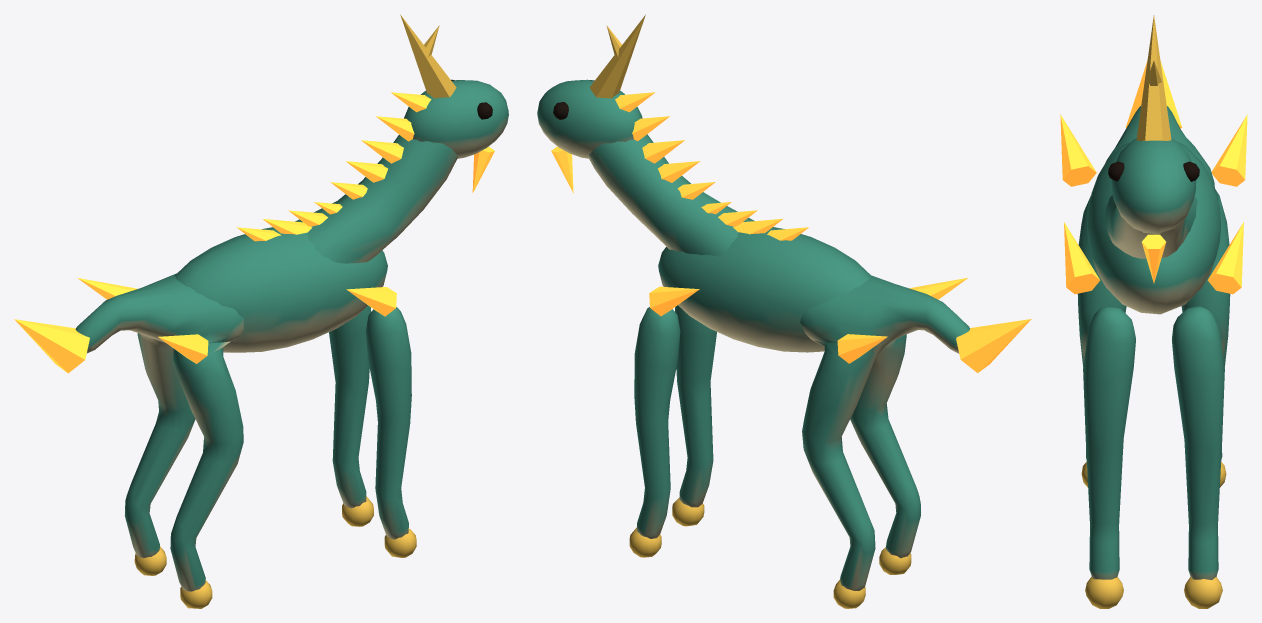
File: qilin.glb
The picture shows the model from 3 angles, left to right: view 1: azimuth 30°, elevation 25°; view 2: azimuth 150°, elevation 25°; view 3: azimuth 270°, elevation 25°; orthographic projection. The views are drawn at different scales.
Visible parts, largest first — view 1: qilin.001; view 2: qilin.001; view 3: qilin.001.
Part boxes in pixels (x1,y1,x2,y2): qilin.001: [14, 14, 508, 608]; qilin.001: [537, 14, 1031, 608]; qilin.001: [1060, 15, 1247, 608].
Size of the model in its own units: 1.86 by 1.89 by 0.5296.
